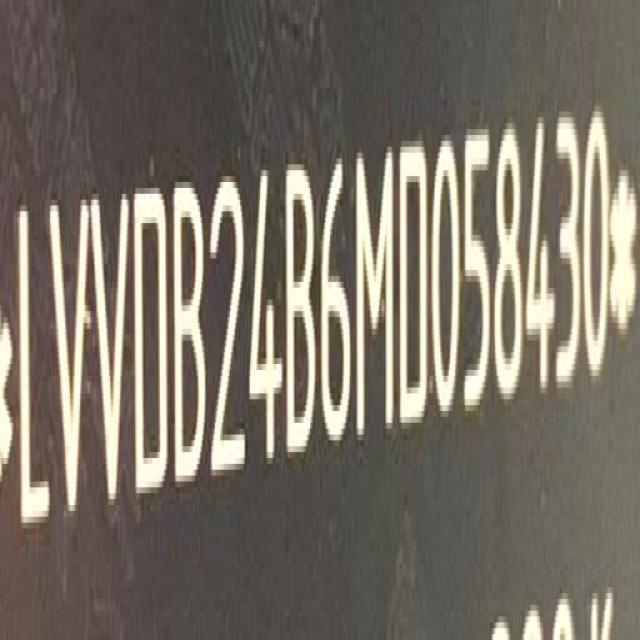0: (431, 131, 461, 428), (585, 116, 613, 387)
2: (209, 173, 248, 484)
3: (554, 109, 584, 400)
4: (250, 168, 286, 476), (526, 119, 556, 402)
5: (461, 123, 491, 420)
6: (319, 153, 351, 461)
8: (496, 124, 527, 409)
B: (174, 177, 210, 496), (287, 161, 320, 464)
D: (131, 183, 169, 508), (398, 136, 432, 436)
L: (17, 199, 52, 544)
M: (357, 144, 397, 450)
V: (47, 193, 89, 533), (92, 189, 132, 522)
